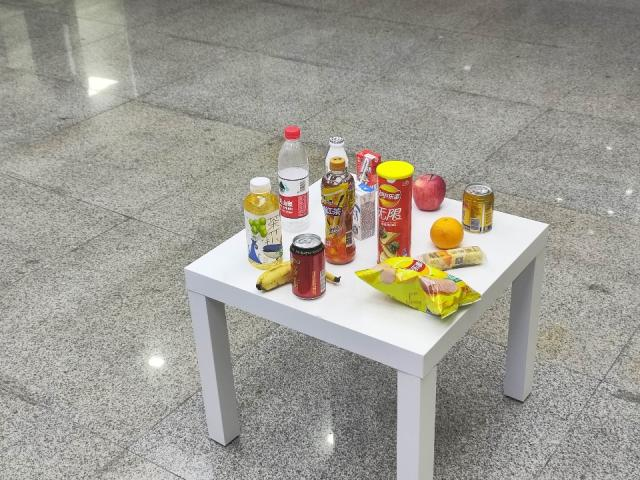Canned_drinks: (289, 232, 331, 302)
